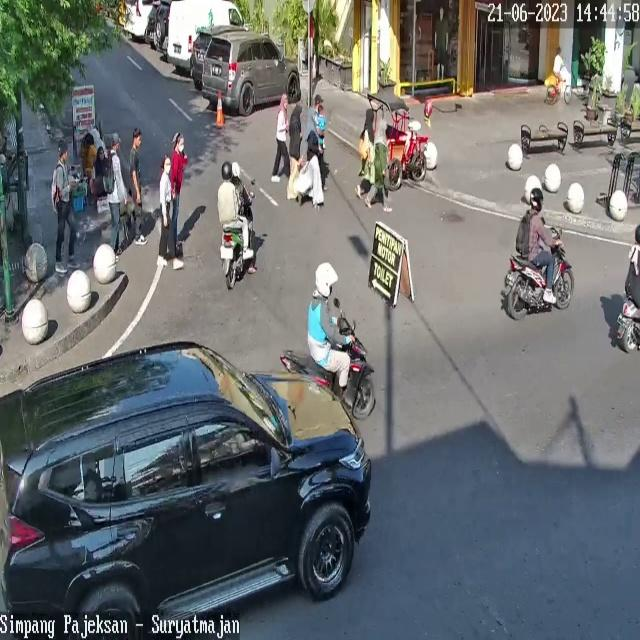bus: (280, 316, 375, 419), (501, 226, 574, 319), (220, 227, 244, 289), (615, 296, 640, 353)
motorcycle: (0, 340, 372, 640), (203, 30, 300, 116), (166, 0, 245, 67), (191, 27, 213, 84), (122, 0, 152, 38)
